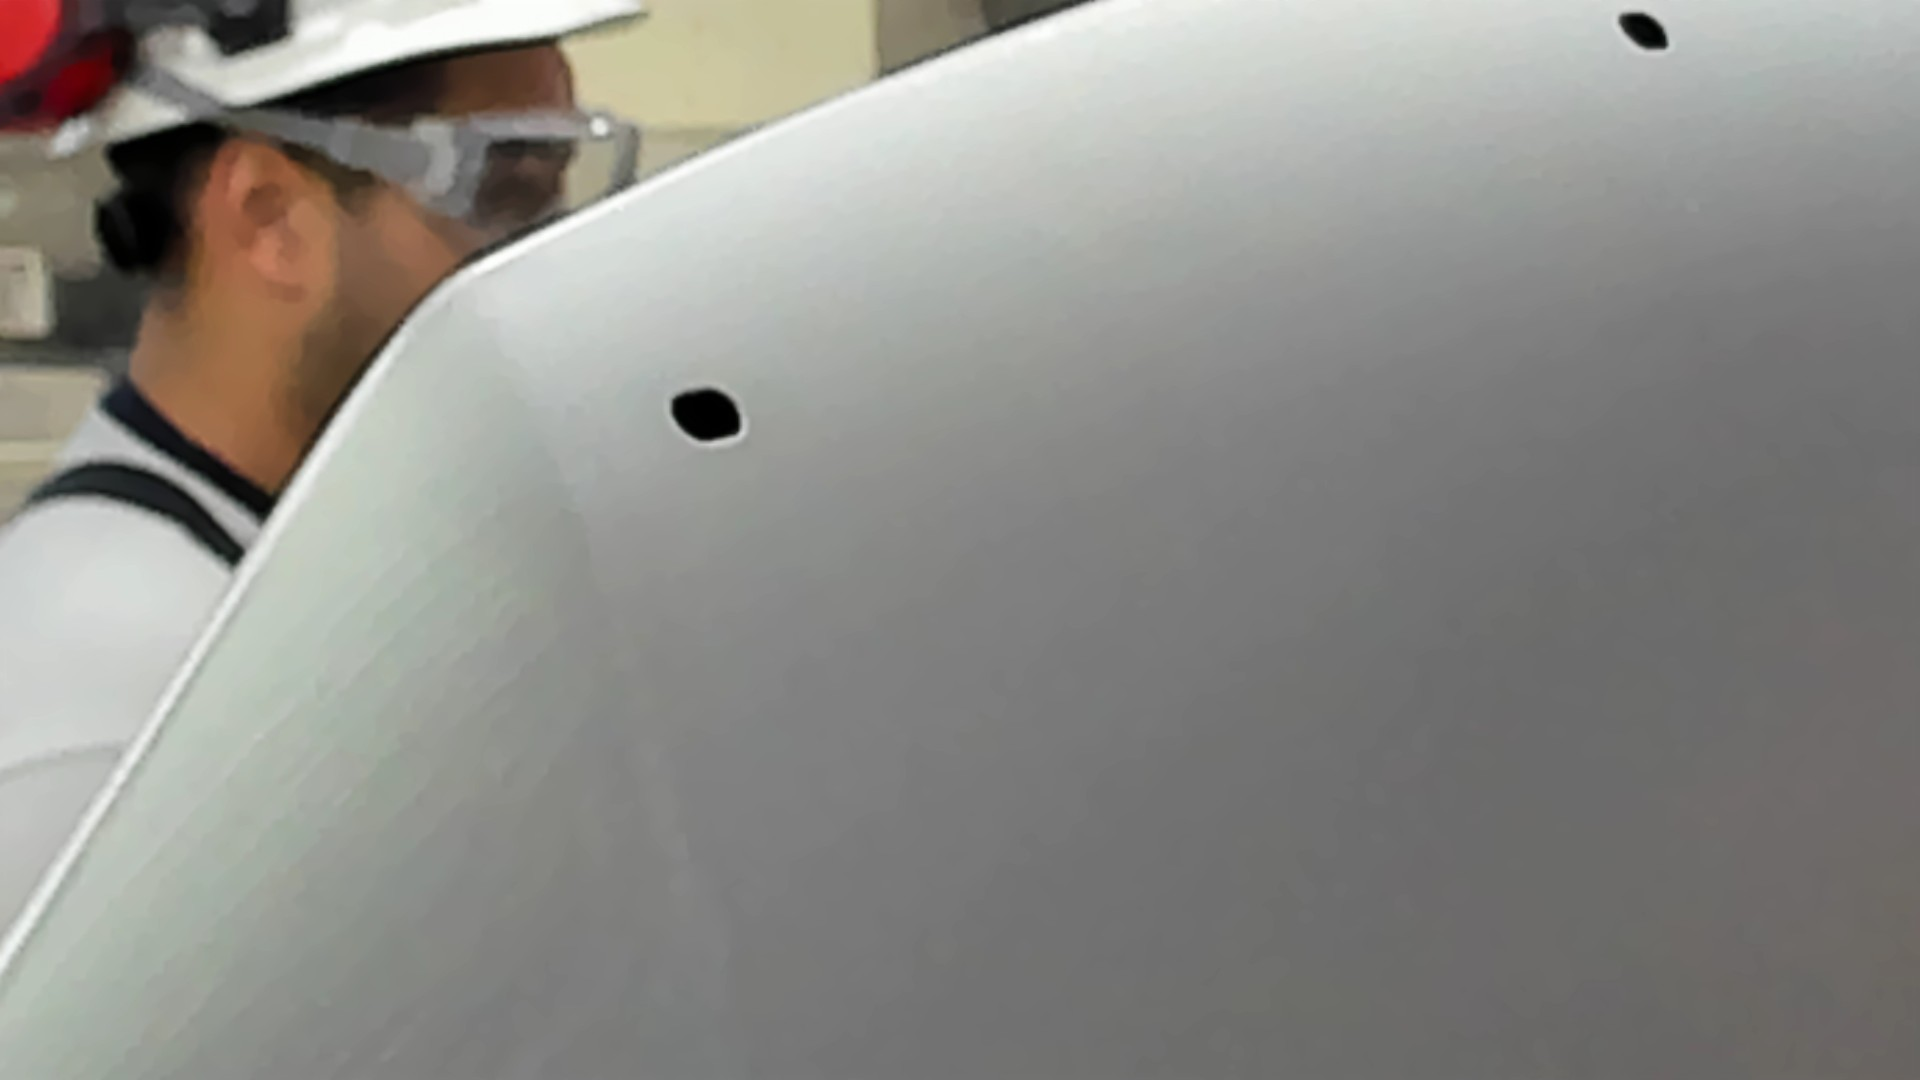amorfo: (665, 376, 750, 450), (1607, 8, 1679, 58)
